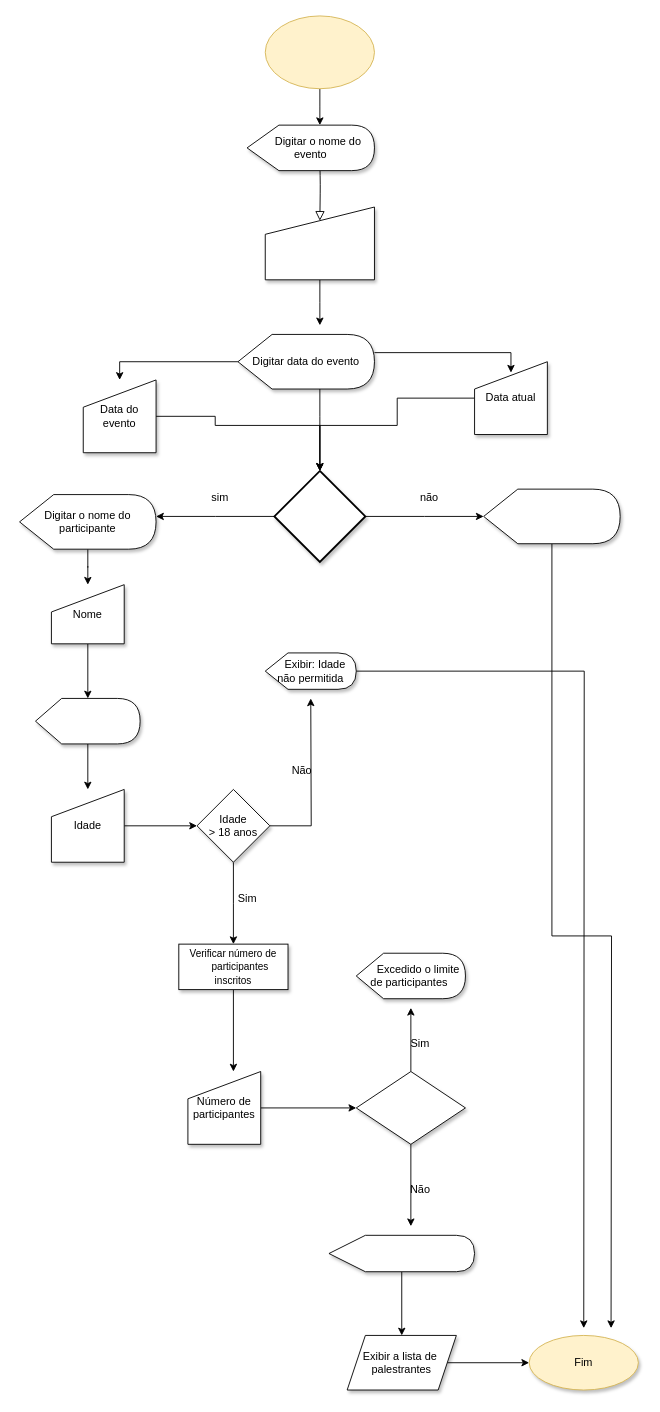
This 660x1412 diagram has some shape labels left out. Each missing label, with the centre of its shape:
Alerta: Data inválida: (x=552, y=517)
Cadastro realizado com sucesso!: (x=402, y=1254)
Digite a idade do participante: (x=88, y=722)
Início - Adicionar o evento: (x=319, y=52)
Nome do Evento: (x=320, y=244)
Se a data do evento > data atual: (x=320, y=517)
Se número de participantes > 100: (x=411, y=1109)
